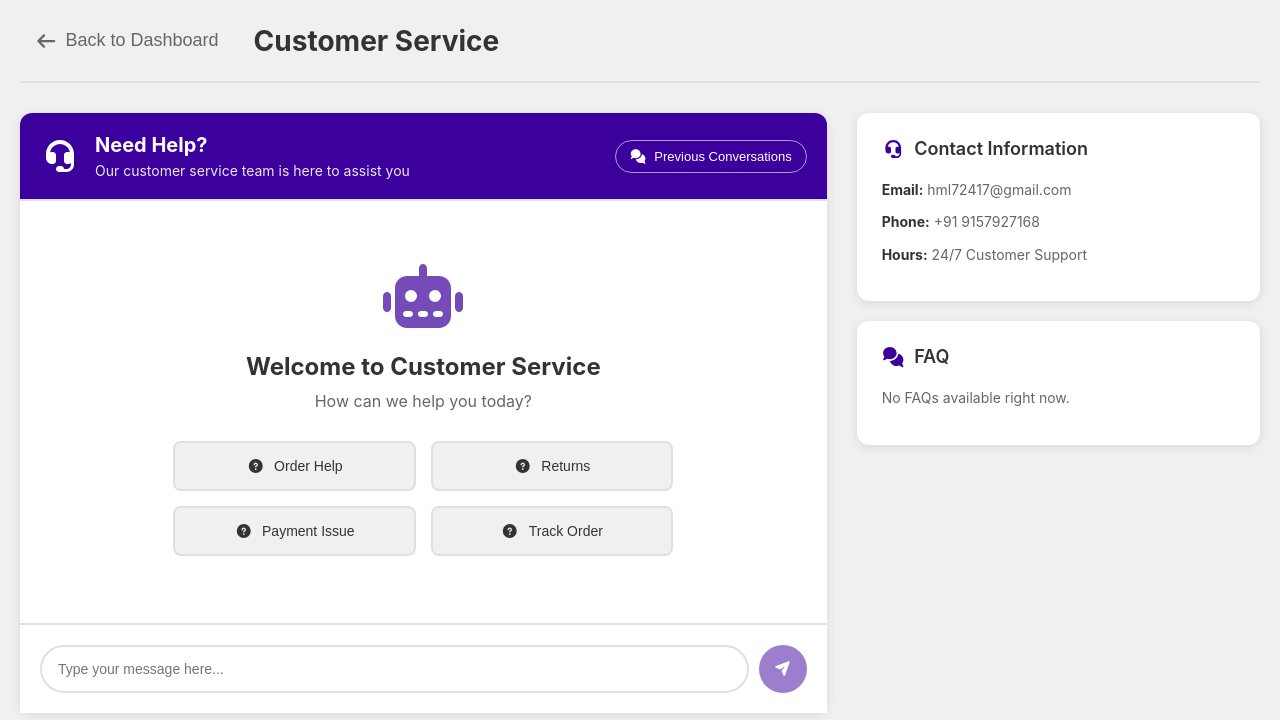
Test: CustomerService Component › handles API error on send and shows error message
Type "Help" into the field with placeholder "Type your message here..." at {"x": 394, "y": 669}, box [40,645,749,693]
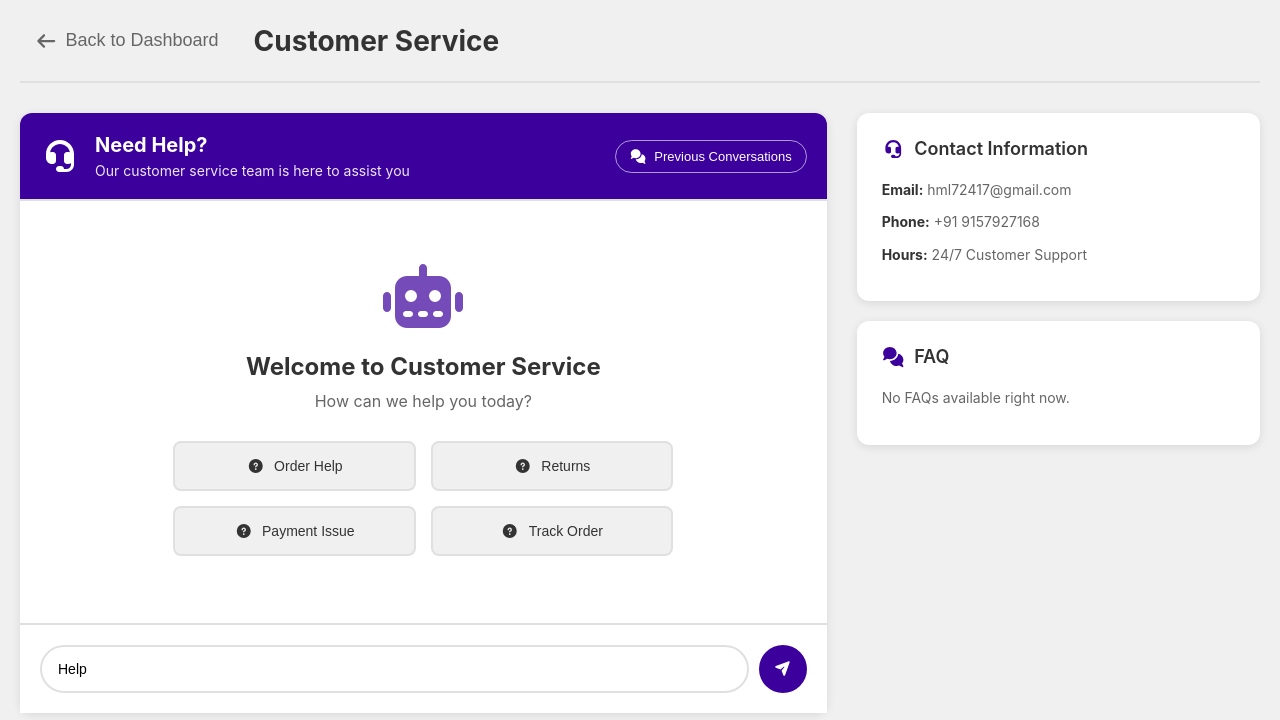
Click the button named "send message" at {"x": 783, "y": 669}, box [759,645,807,693]
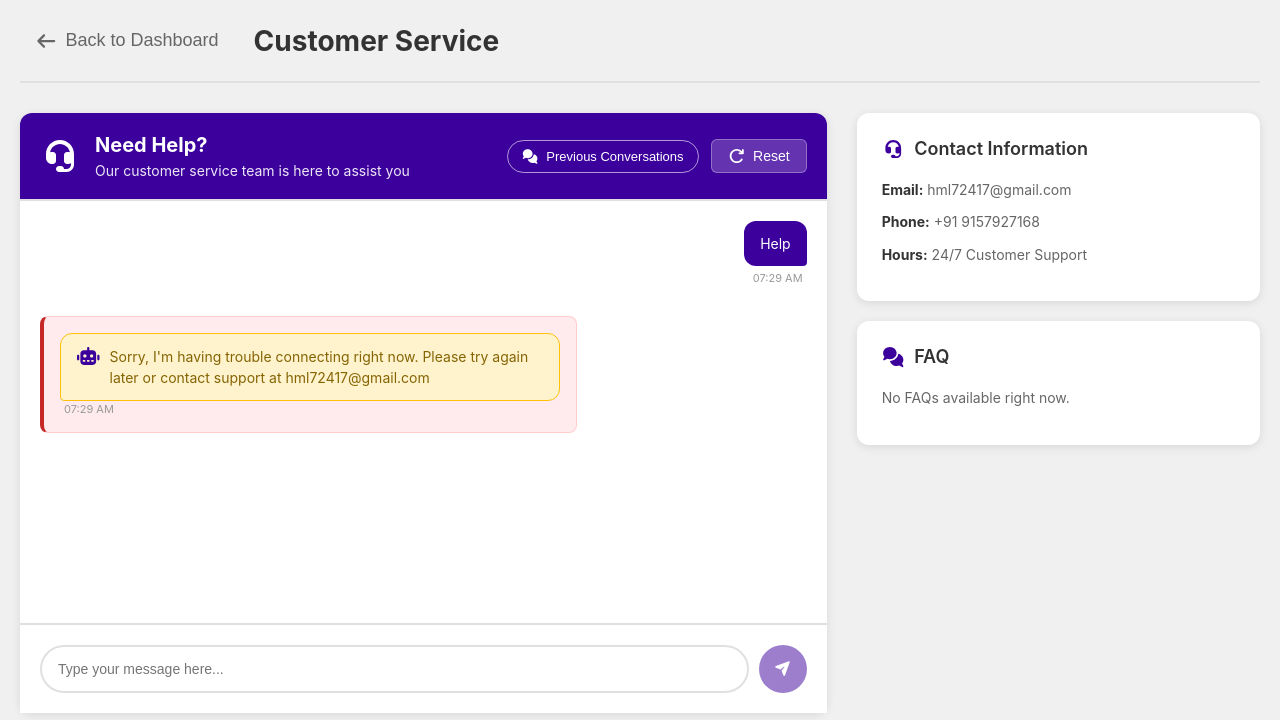
Check: the text "Help" is shown, box [760,233,791,254]
Check: the text "Sorry, I'm having trouble connecting right now" is shown, box [110,348,528,386]
